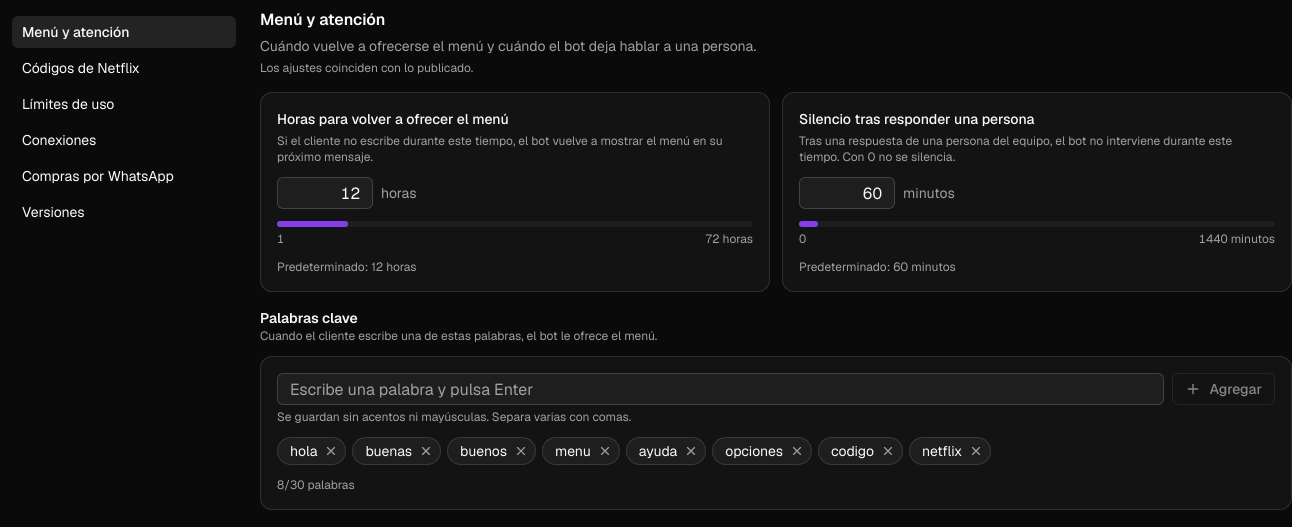
ajustes › lleva las versiones dentro de Ajustes
Click the button "Versiones" at (124, 212), box [12, 196, 236, 228]
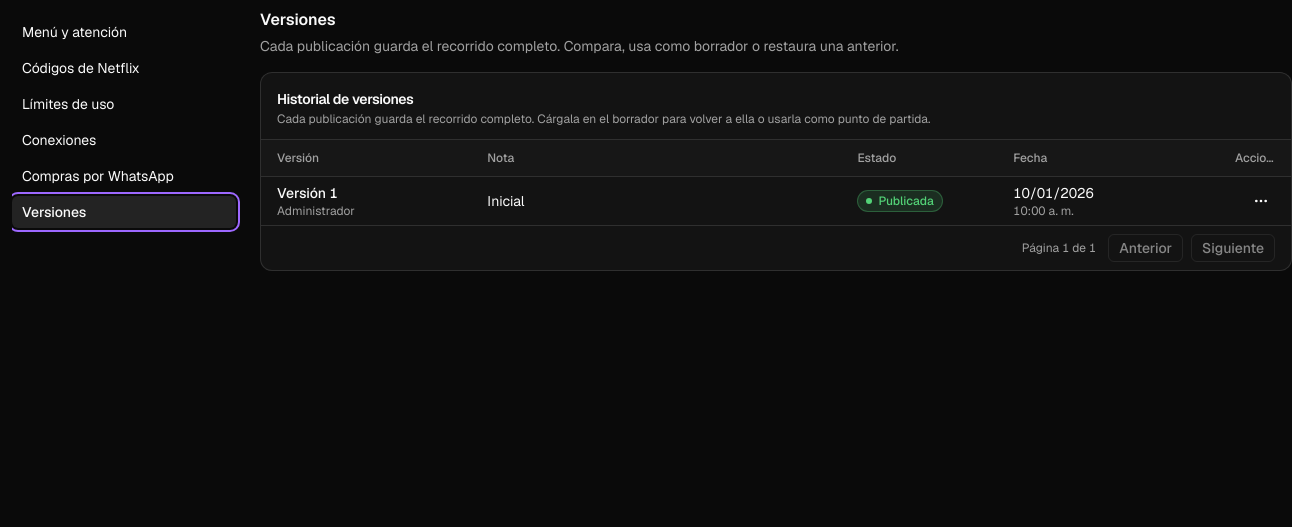
Now the heading "Versiones" is shown, box [260, 9, 336, 30]
Now the heading "Historial de versiones" is shown, box [277, 90, 414, 108]
Now the text "Inicial" is shown, box [487, 192, 525, 210]
